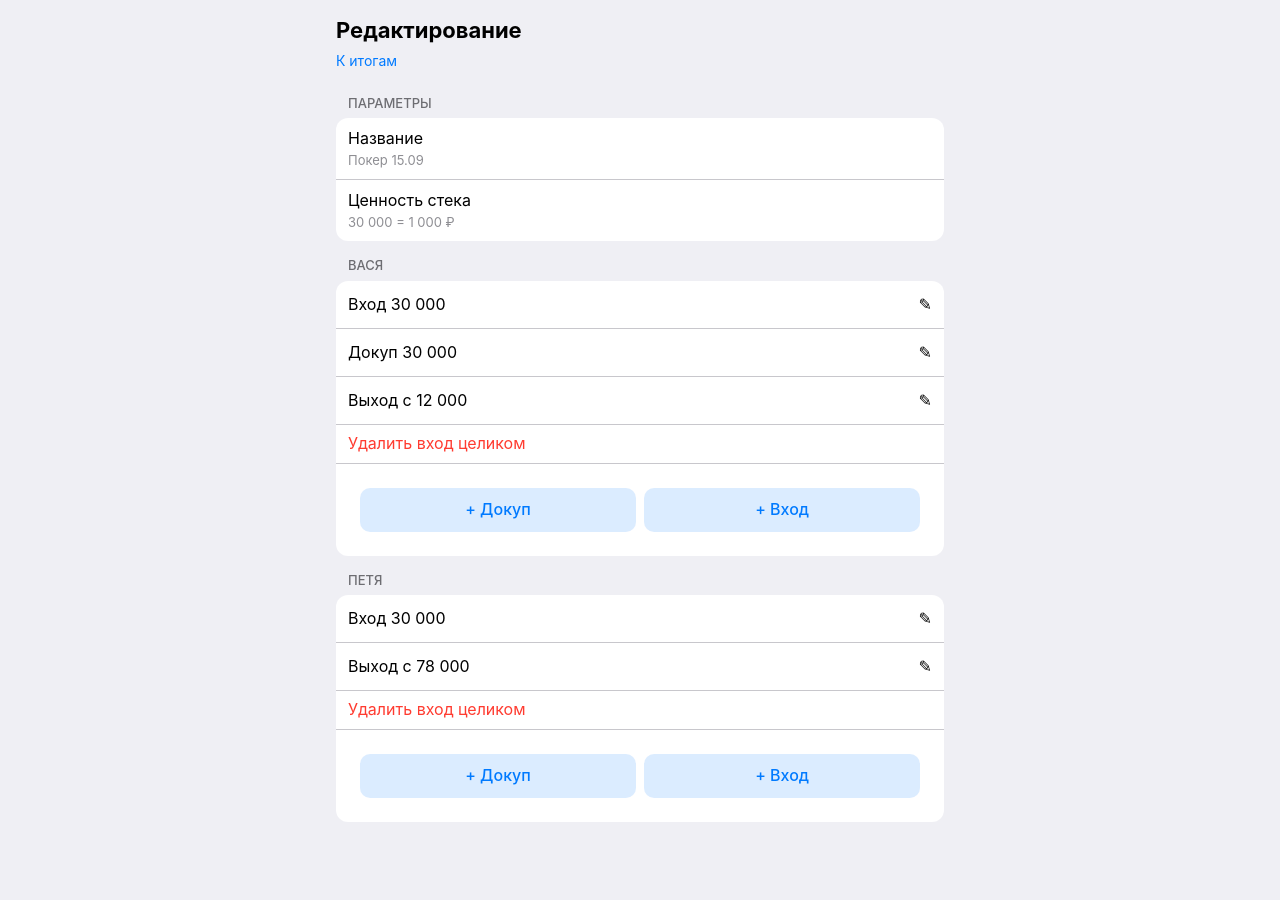
Test: editing a finished game › corrects the chips of an event in place
Click the button "Выход с 12 000 ✎".
click(408, 400)  # box [336,377,944,425]
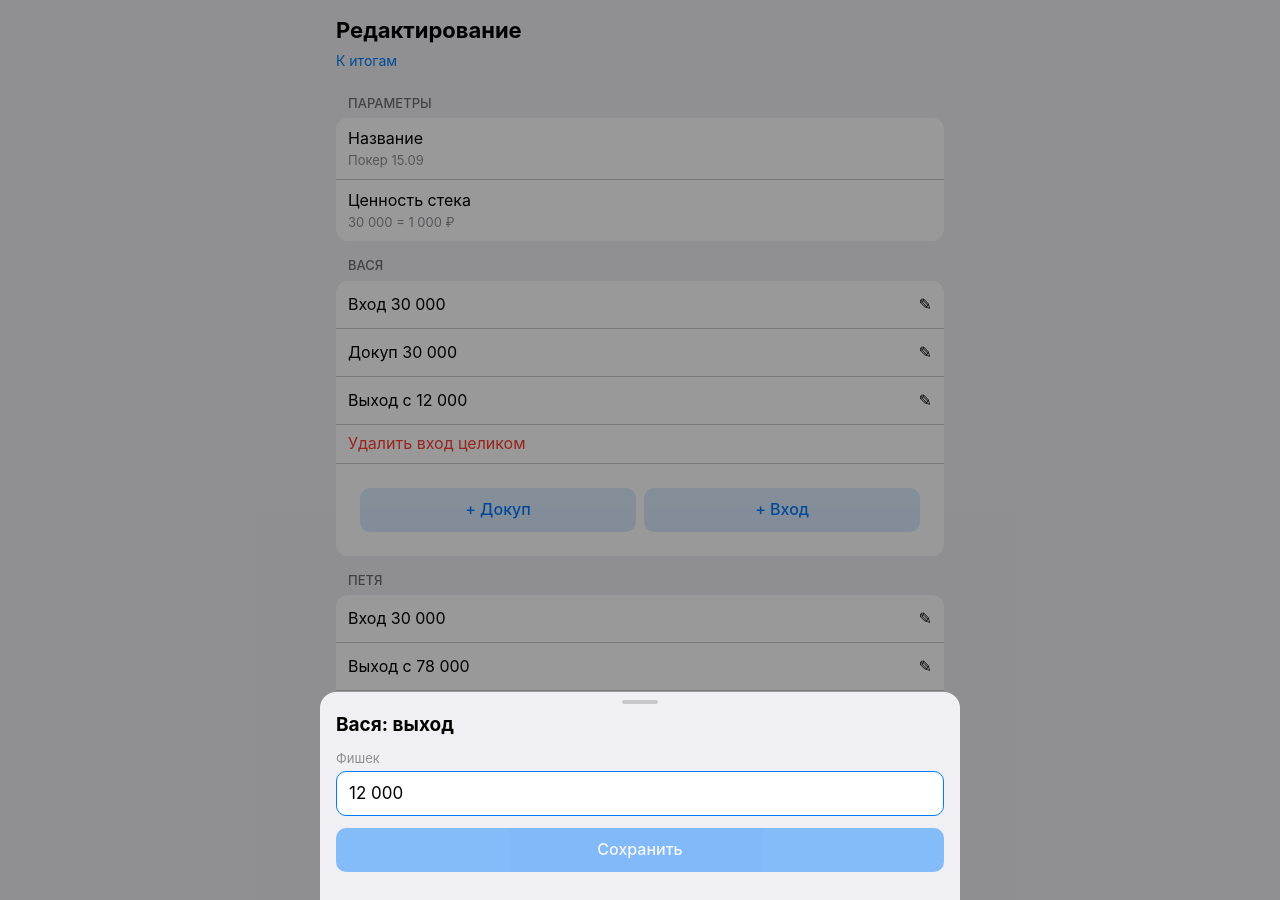
Replace the text in the field labelled "Фишек" with "13000" at [640, 794], box [336,771,944,816]
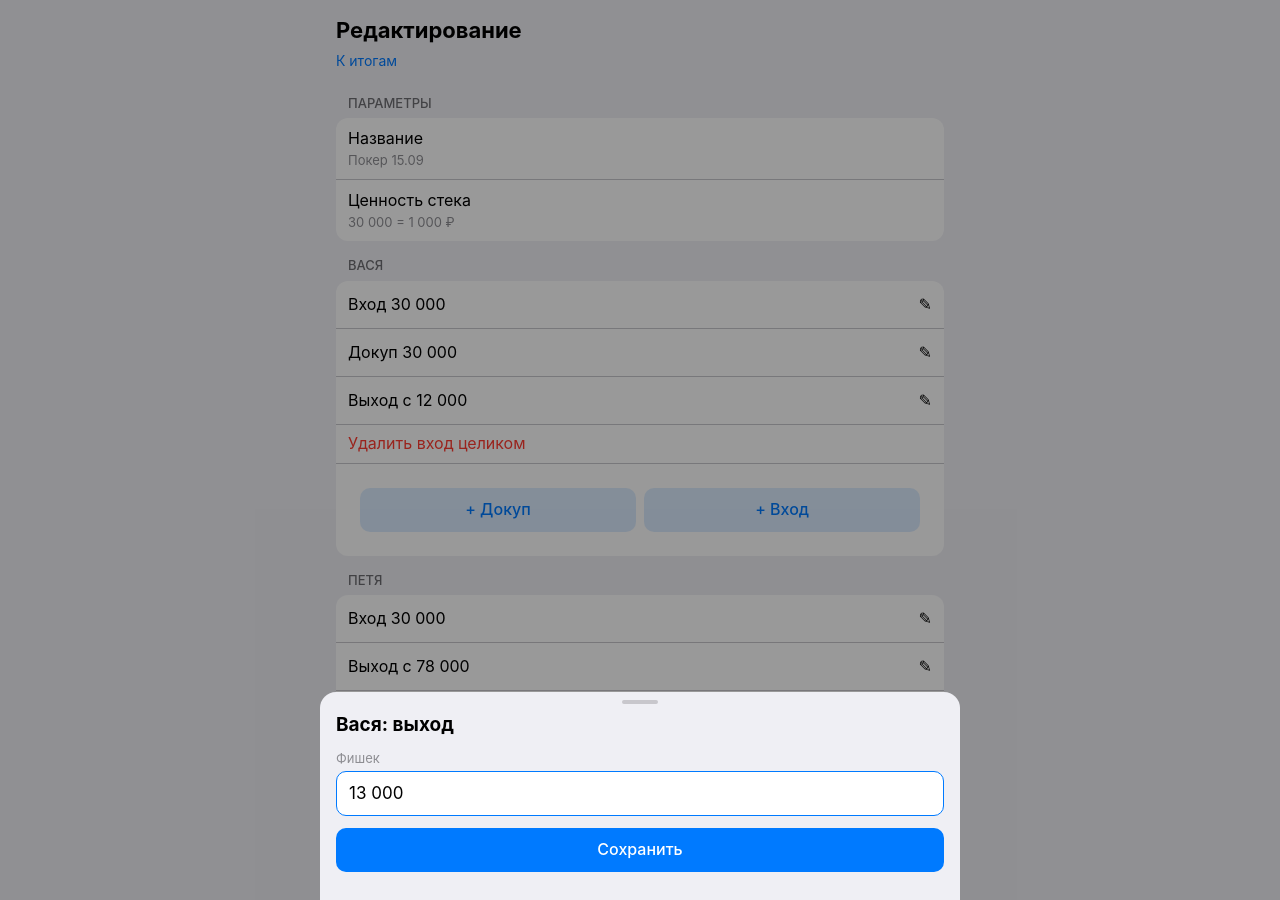
Click the button "Сохранить".
click(640, 850)  # box [336,828,944,872]
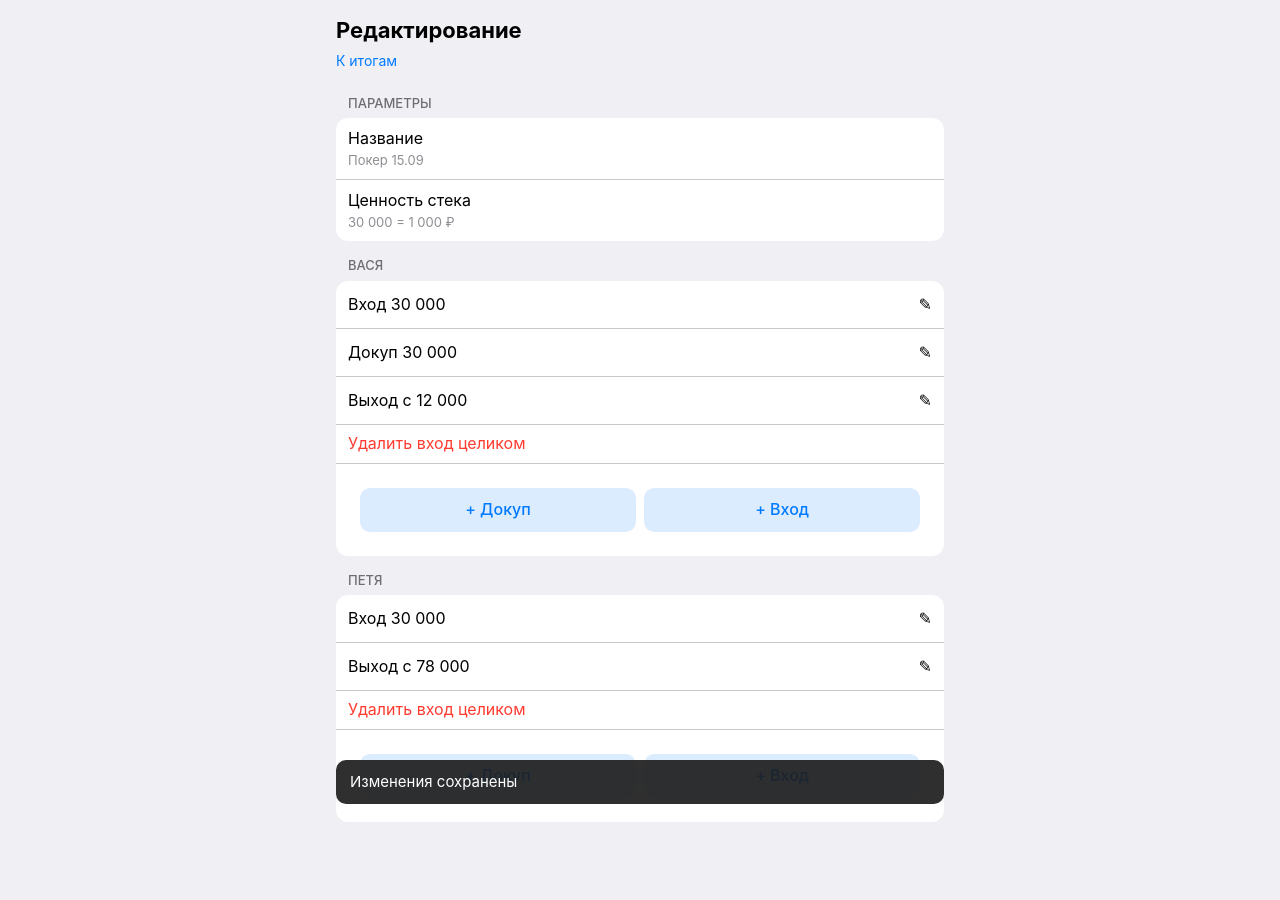
Now the text "Изменения сохранены" is shown, box [336,760,944,804]
